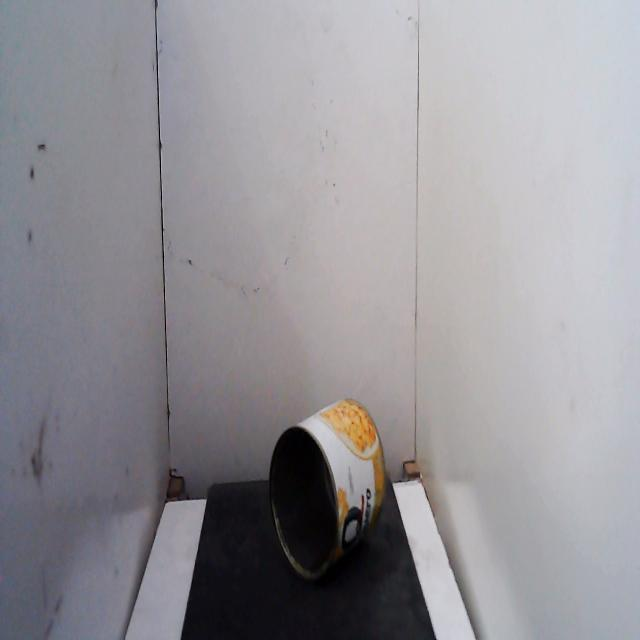metal: (268, 393, 392, 588)
